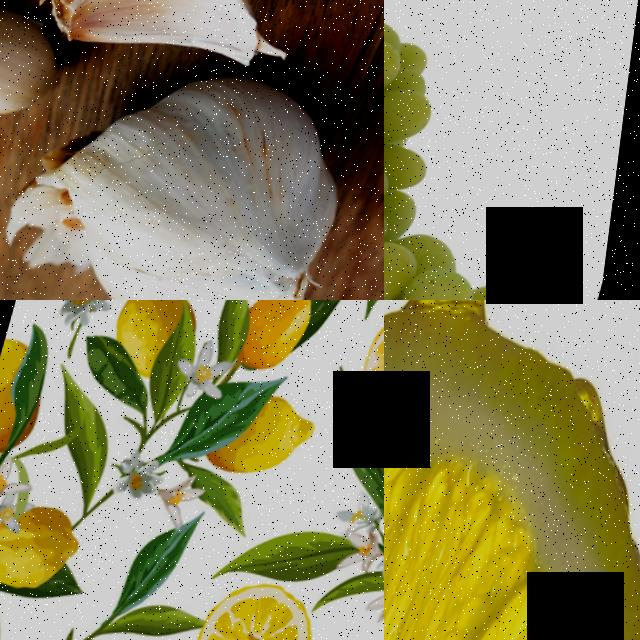garlic: (37, 51, 384, 300), (34, 0, 314, 80), (0, 0, 81, 133)
grapes: (384, 0, 621, 300)
lemon: (384, 300, 640, 640), (0, 497, 99, 602), (192, 577, 339, 640), (246, 397, 331, 490), (107, 300, 198, 354), (350, 307, 384, 429)
